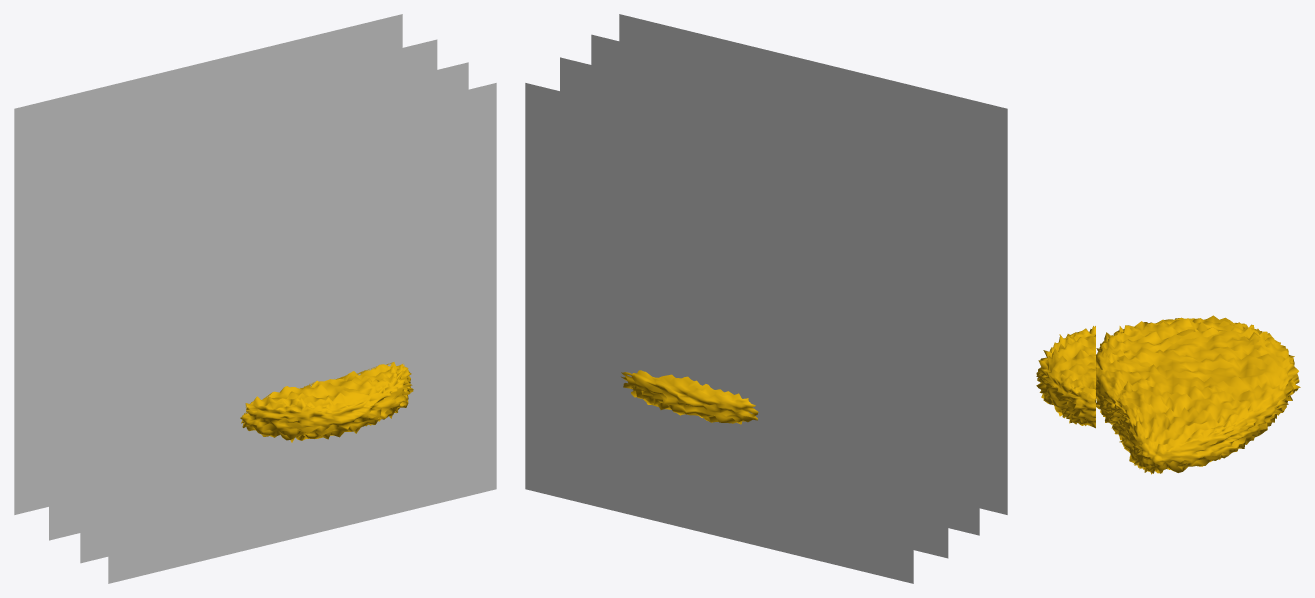
The model's file is 切ったカツ１.fbx.
3 renders of one model, left to right at view 1: azimuth 30°, elevation 25°; view 2: azimuth 150°, elevation 25°; view 3: azimuth 270°, elevation 25°, orthographic. The views are drawn at different scales.
Parts seen in each view (by area): view 1: 平面.002, 平面.005, 平面.004, 平面.003, 平面.001; view 2: 平面.005, 平面.004, 平面.003, 平面.002, 平面; view 3: 平面, 平面.001.
Part boxes in pixels (x1,y1,x2,y2): 平面.002: [108, 83, 496, 583]; 平面.005: [14, 14, 402, 514]; 平面.004: [49, 39, 437, 540]; 平面.003: [80, 62, 468, 563]; 平面.001: [240, 362, 413, 442]; 平面.005: [525, 83, 913, 583]; 平面.004: [560, 57, 948, 558]; 平面.003: [591, 34, 979, 535]; 平面.002: [619, 14, 1007, 514]; 平面: [621, 370, 758, 424]; 平面: [1096, 315, 1300, 474]; 平面.001: [1036, 326, 1095, 428].
Size of the model in its own units: 418 by 400 by 247.
